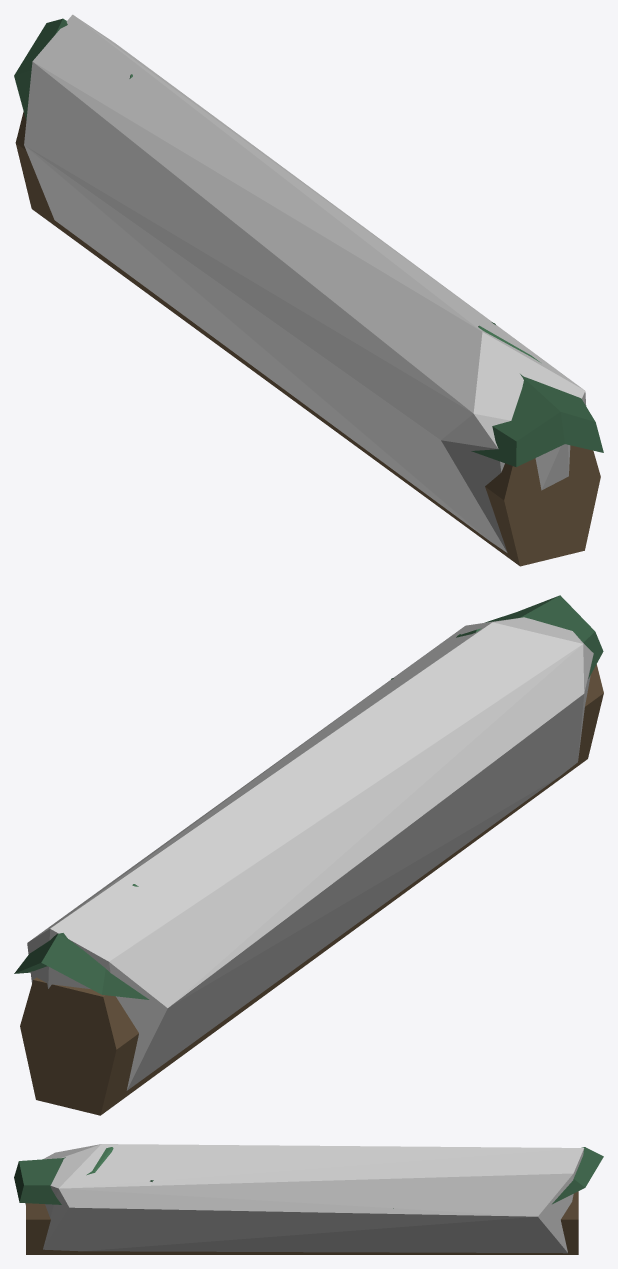
Rendered from SM_Bld_Roof_Cap_Straight_01.fbx.
The picture shows the model from 3 angles, top to bottom: view 1: azimuth 30°, elevation 25°; view 2: azimuth 150°, elevation 25°; view 3: azimuth 270°, elevation 25°; orthographic projection. The views are drawn at different scales.
Parts seen in each view (by area): view 1: SM_Bld_Roof_Cap_Straight_01_ConvexHulls, SM_Bld_Roof_Cap_Straight_01; view 2: SM_Bld_Roof_Cap_Straight_01_ConvexHulls, SM_Bld_Roof_Cap_Straight_01; view 3: SM_Bld_Roof_Cap_Straight_01_ConvexHulls, SM_Bld_Roof_Cap_Straight_01.
Part boxes in pixels (left/top/right/bottom): SM_Bld_Roof_Cap_Straight_01_ConvexHulls: left=24, top=14, right=586, bottom=552; SM_Bld_Roof_Cap_Straight_01: left=14, top=18, right=603, bottom=566; SM_Bld_Roof_Cap_Straight_01_ConvexHulls: left=27, top=617, right=593, bottom=1090; SM_Bld_Roof_Cap_Straight_01: left=14, top=595, right=603, bottom=1115; SM_Bld_Roof_Cap_Straight_01_ConvexHulls: left=25, top=1144, right=584, bottom=1253; SM_Bld_Roof_Cap_Straight_01: left=14, top=1147, right=603, bottom=1254.
Bounding box in the file's own units: 42.1 × 267 × 50.77.
Materials: 2 (1 with a texture image).
